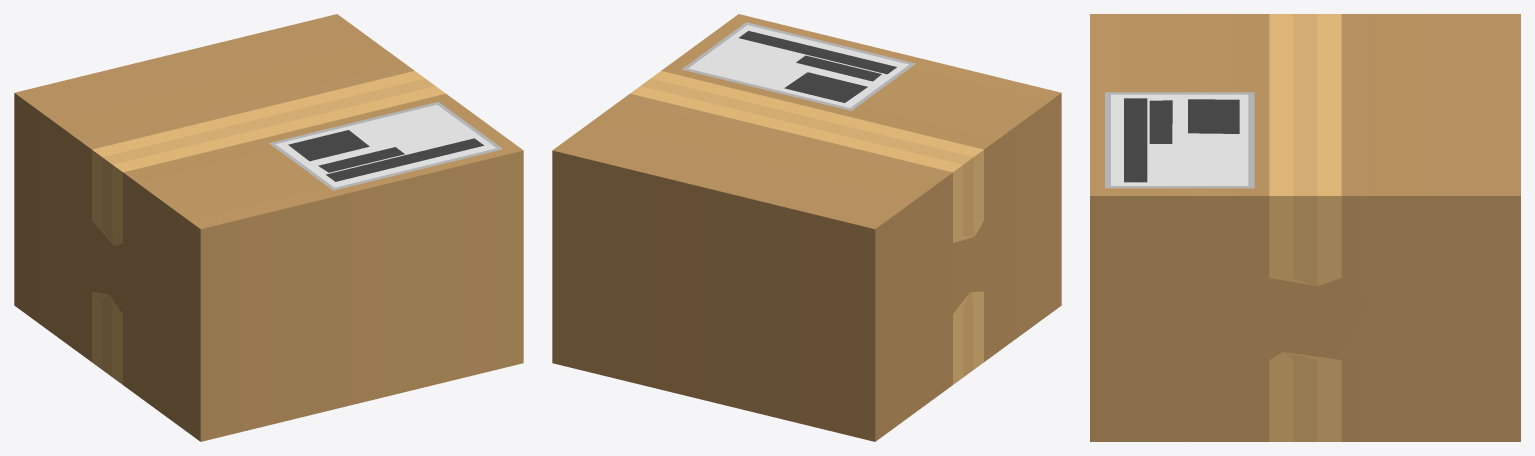
The model's file is Light Packing Box #4.fbx.
3 views of the same model, side by side, from view 1: azimuth 30°, elevation 25°; view 2: azimuth 150°, elevation 25°; view 3: azimuth 270°, elevation 25° (orthographic). The views are drawn at different scales.
Visible parts, largest first — view 1: Med Light Packing Box #2; view 2: Med Light Packing Box #2; view 3: Med Light Packing Box #2.
Boxes of the visible parts, x1=… form: Med Light Packing Box #2: x1=14, y1=14, x2=523, y2=441; Med Light Packing Box #2: x1=552, y1=14, x2=1061, y2=441; Med Light Packing Box #2: x1=1090, y1=14, x2=1520, y2=441.
Size of the model in its own units: 184 by 292 by 292.
Materials: 1 (1 with a texture image).
